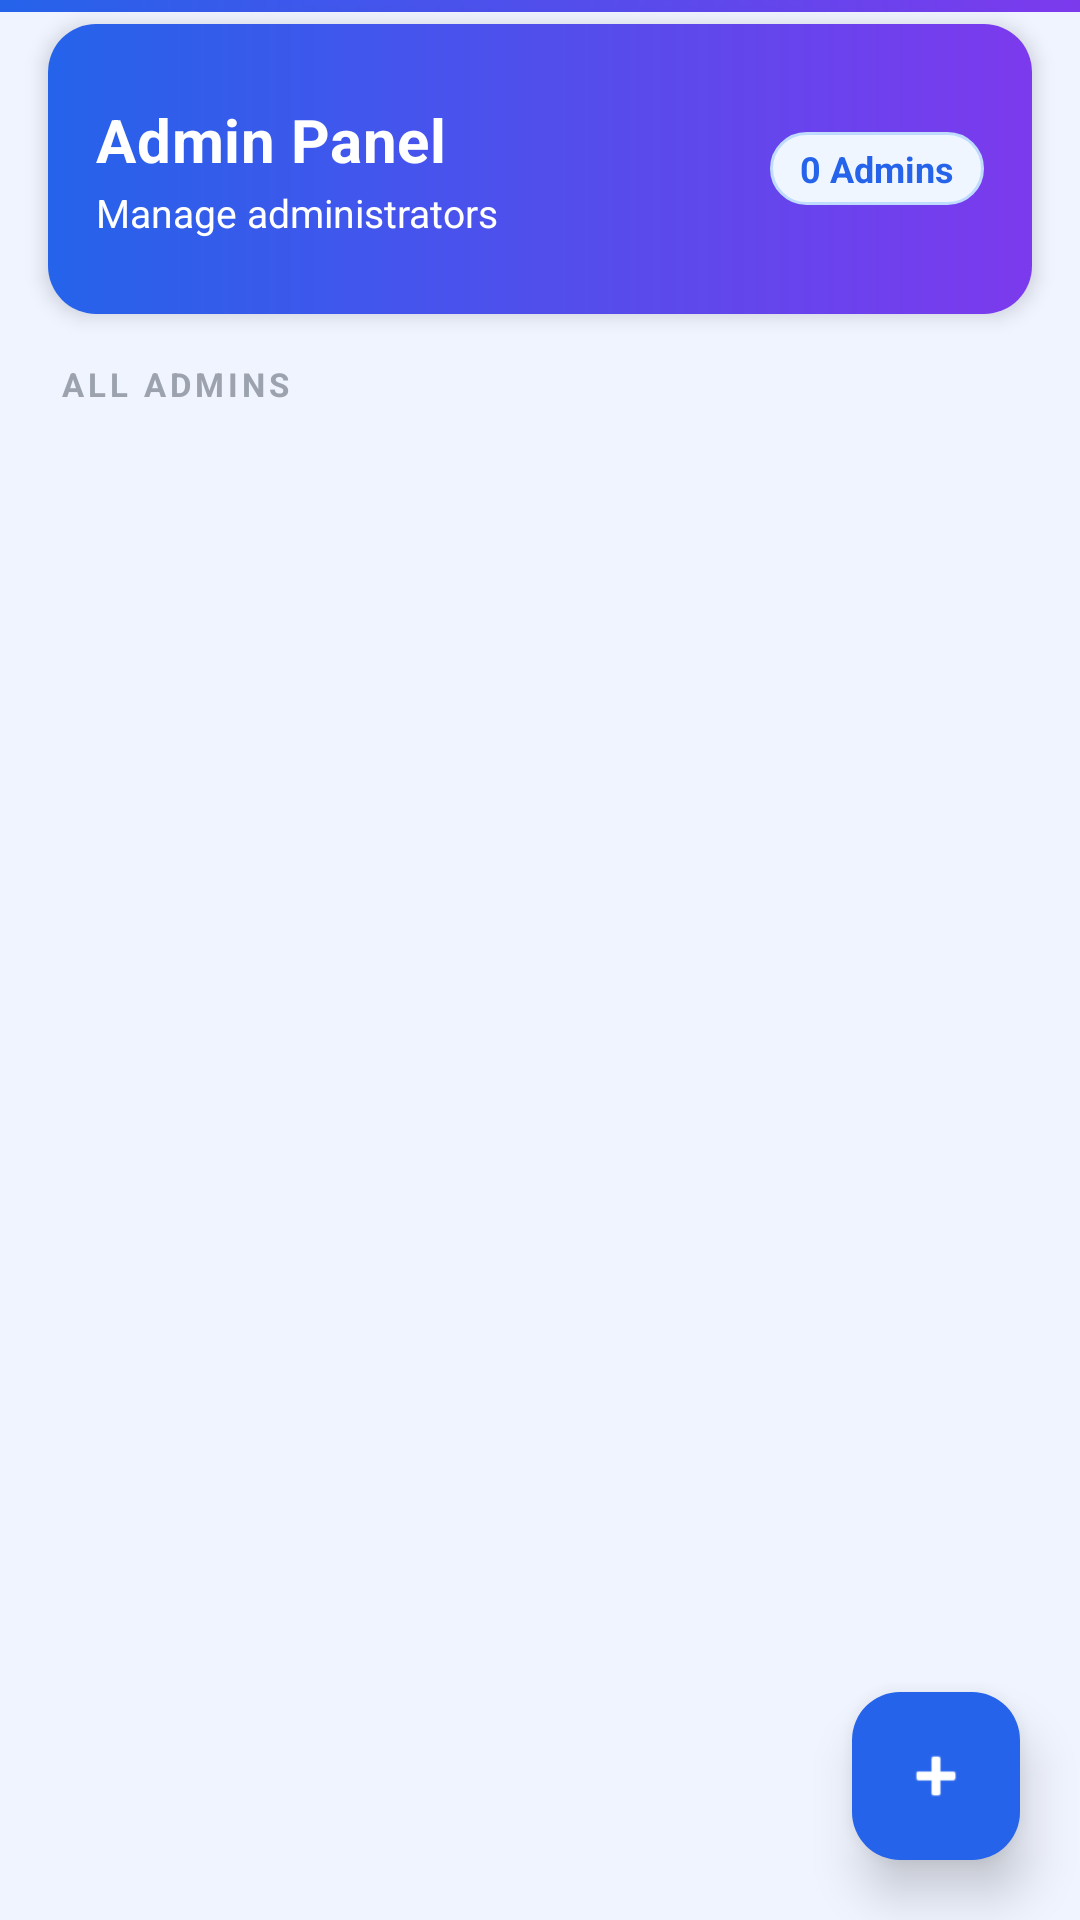

Where to tap for icons on this 1080*1920 app screen, as [x,y]:
Add Admin: [936,1776]
